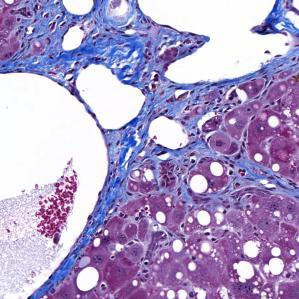fibrosis: (16, 5, 158, 76)
